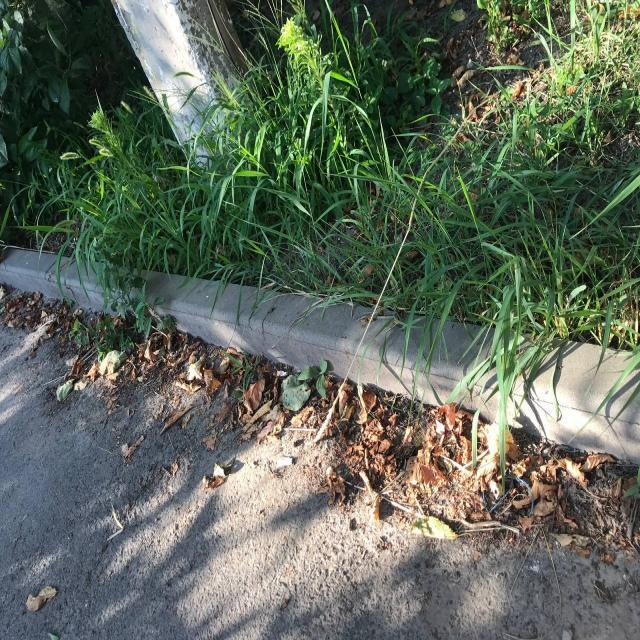bump: (144, 272, 490, 404), (451, 327, 639, 465), (0, 248, 157, 338)
